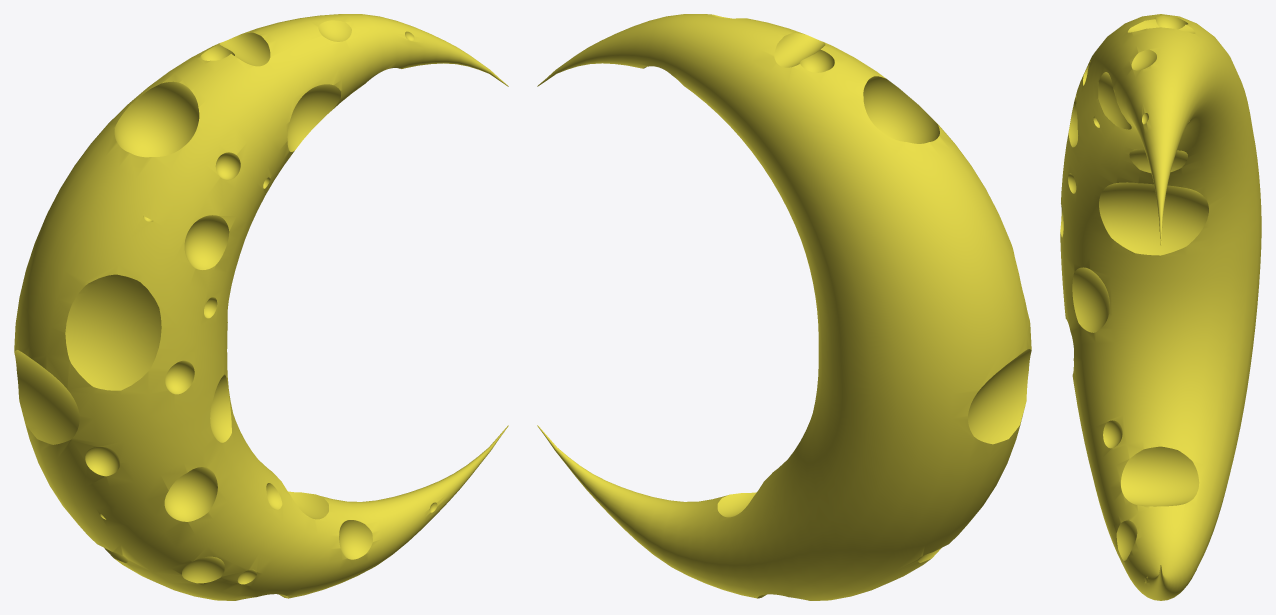
The model's file is CheeseMoon.fbx.
3 renders of one model, left to right at view 1: azimuth 30°, elevation 25°; view 2: azimuth 150°, elevation 25°; view 3: azimuth 270°, elevation 25°, orthographic. The views are drawn at different scales.
Parts seen in each view (by area): view 1: Moon.001; view 2: Moon.001; view 3: Moon.001.
Part boxes in pixels (left/top/right/bottom): Moon.001: left=14, top=14, right=508, bottom=600; Moon.001: left=537, top=14, right=1031, bottom=600; Moon.001: left=1060, top=14, right=1261, bottom=600.
Size of the model in its own units: 427 by 482 by 165.
